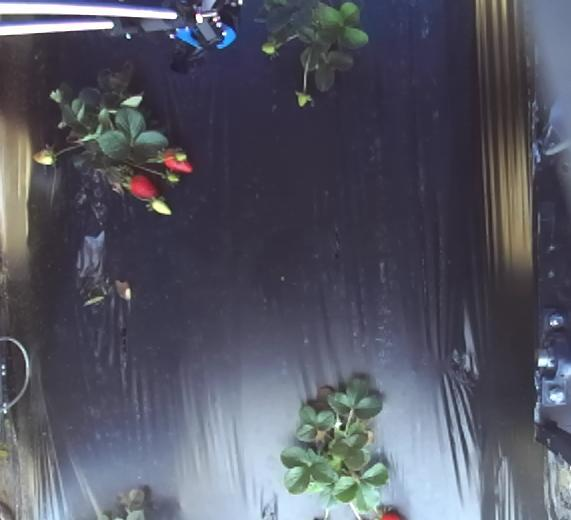mature: (161, 146, 193, 174), (128, 173, 159, 201), (375, 504, 405, 519)
